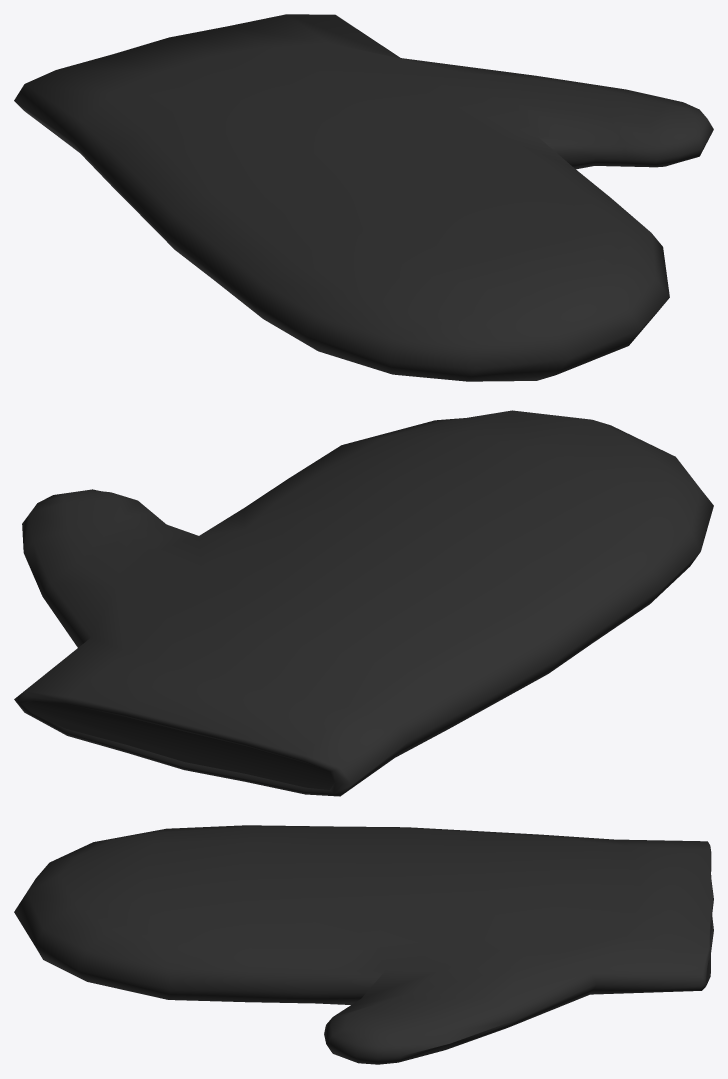
File: OvenGloves_01.fbx
The picture shows the model from 3 angles, top to bottom: view 1: azimuth 30°, elevation 25°; view 2: azimuth 150°, elevation 25°; view 3: azimuth 270°, elevation 25°; orthographic projection. The views are drawn at different scales.
Visible parts, largest first — view 1: OvenGloves_01; view 2: OvenGloves_01; view 3: OvenGloves_01.
Boxes of the visible parts, <box> form: OvenGloves_01: <box>14,14,713,381</box>; OvenGloves_01: <box>14,410,713,796</box>; OvenGloves_01: <box>14,825,713,1064</box>.
Bounding box in the file's own units: 0.1417 × 0.0261 × 0.1888.
